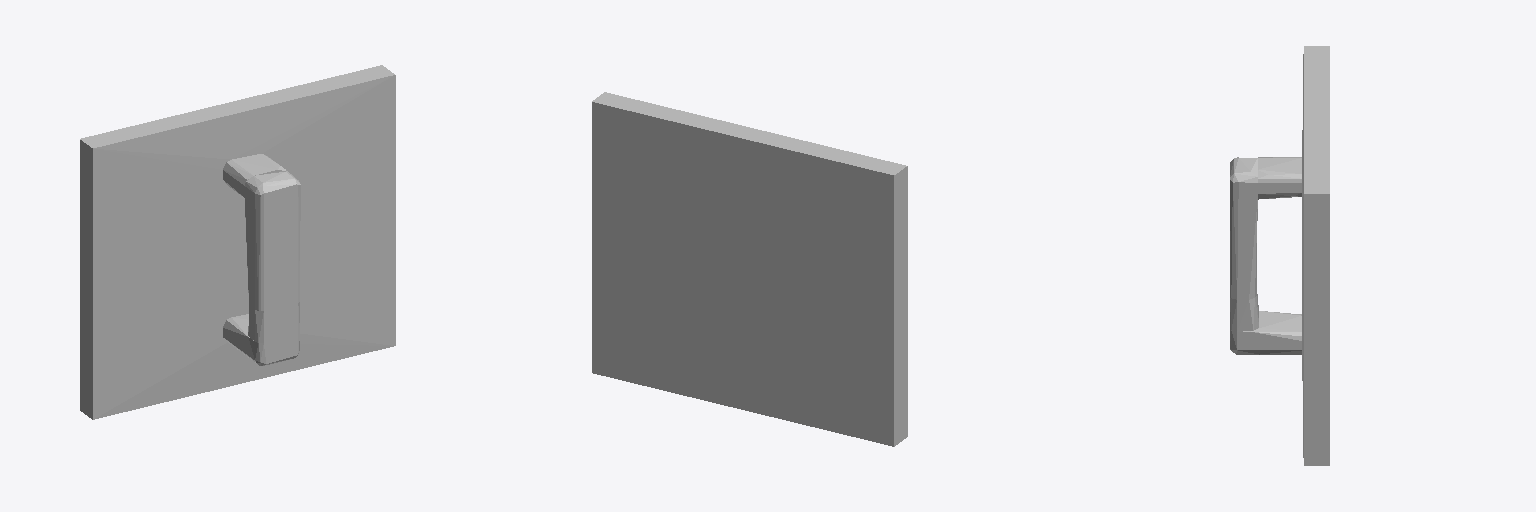
File: slide_link_vhacd2.obj
3 renders of one model, left to right at view 1: azimuth 30°, elevation 25°; view 2: azimuth 150°, elevation 25°; view 3: azimuth 270°, elevation 25°, orthographic.
Parts seen in each view (by area): view 1: convex_0, convex_4, convex_1, convex_2, convex_3; view 2: convex_0; view 3: convex_0, convex_4, convex_1, convex_3, convex_2.
Part boxes in pixels (x1,y1,x2,y2): convex_0: (80,65,395,419); convex_4: (245,170,300,310); convex_1: (223,314,299,365); convex_2: (248,302,299,342); convex_3: (223,154,285,198); convex_0: (592,92,907,446); convex_0: (1302,46,1329,465); convex_4: (1230,157,1257,299); convex_1: (1230,311,1301,354); convex_3: (1258,157,1301,199); convex_2: (1230,288,1258,331).
Size of the model in its own units: 0.3515 by 0.3011 by 0.1008.